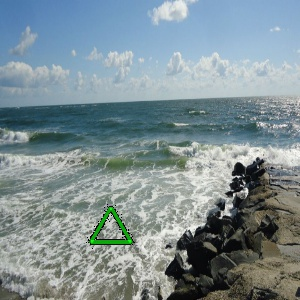triangle: (85, 203, 135, 249)
